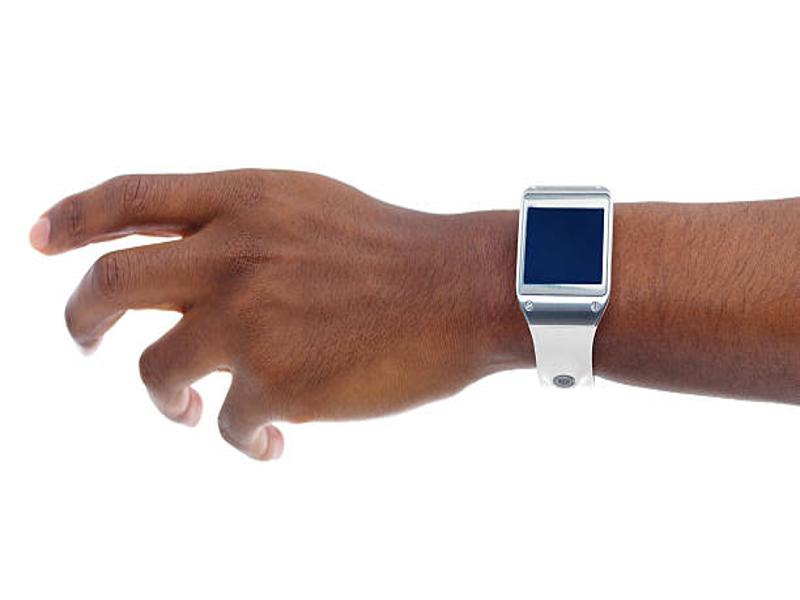watch: (514, 182, 617, 392)
